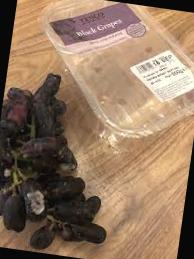Grape Rotten: (0, 65, 129, 258)
